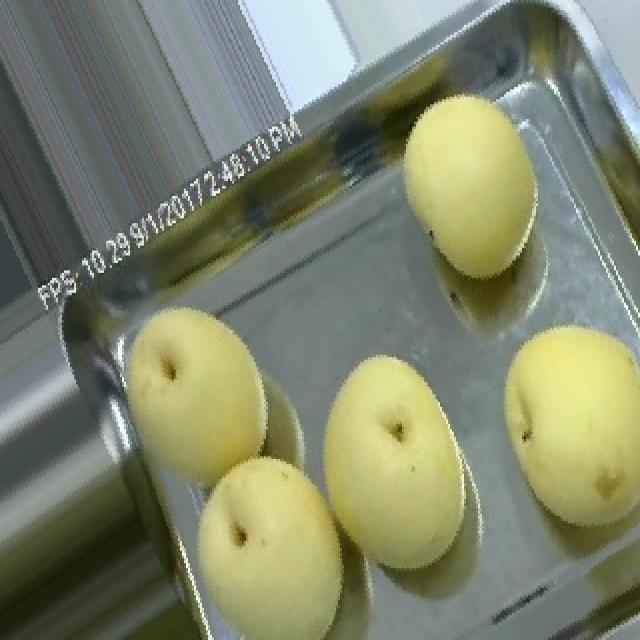Fruit: (288, 332, 504, 603), (88, 280, 300, 521), (156, 426, 380, 640), (468, 300, 640, 556), (382, 77, 554, 293)
